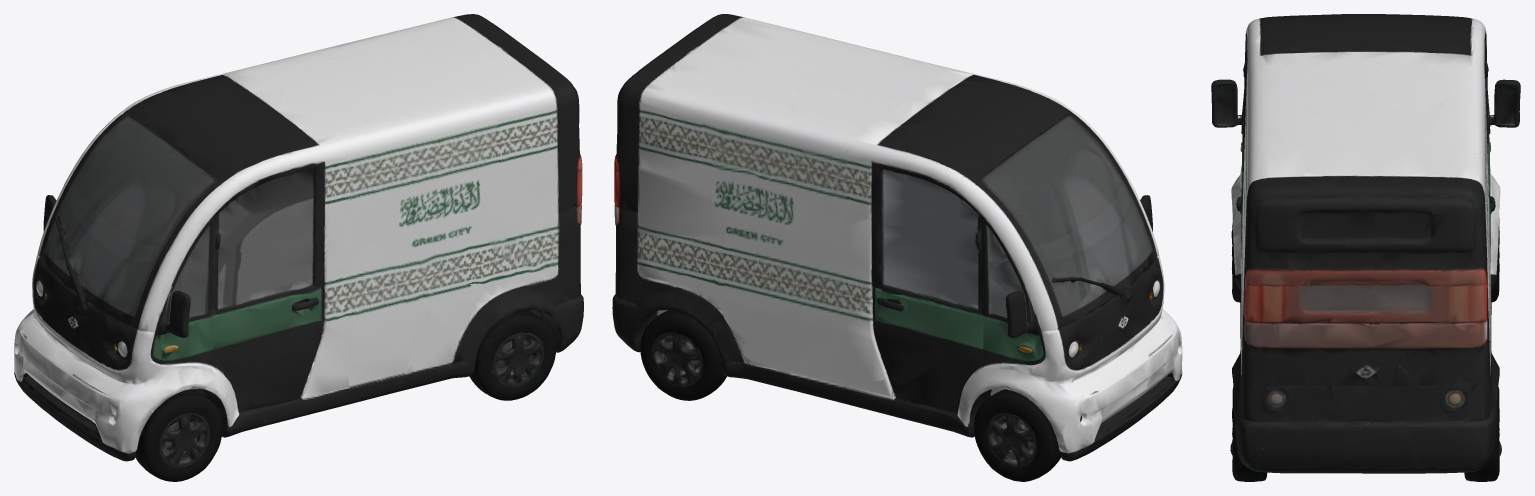
The model's file is shuttle_lod1.glb.
The picture shows the model from 3 angles, left to right: view 1: azimuth 30°, elevation 25°; view 2: azimuth 150°, elevation 25°; view 3: azimuth 270°, elevation 25°; orthographic projection. The views are drawn at different scales.
Visible parts, largest first — view 1: mesh_node; view 2: mesh_node; view 3: mesh_node.
Boxes of the visible parts, x1,y1,x2,y2 form: mesh_node: (14, 14, 583, 481); mesh_node: (612, 14, 1182, 481); mesh_node: (1211, 14, 1520, 481).
Bounding box in the file's own units: 1.9 × 1.13 × 0.9751.
1 material, 1 textured.
